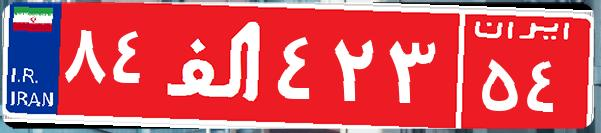2: (330, 28, 385, 110)
3: (385, 28, 445, 110)
4: (273, 28, 330, 110), (110, 28, 158, 105), (525, 38, 570, 115)
5: (475, 38, 525, 113)
8: (57, 26, 110, 107)
الف: (158, 15, 273, 115)
